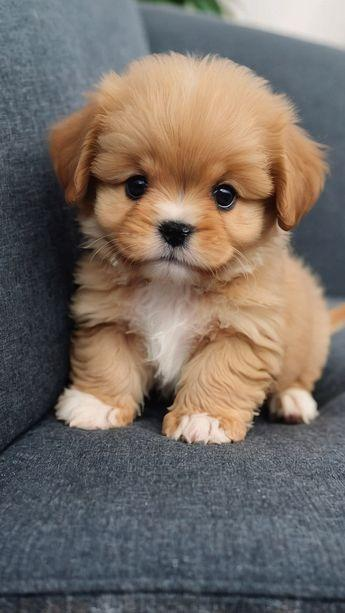puppy-dog: (46, 47, 344, 443)
